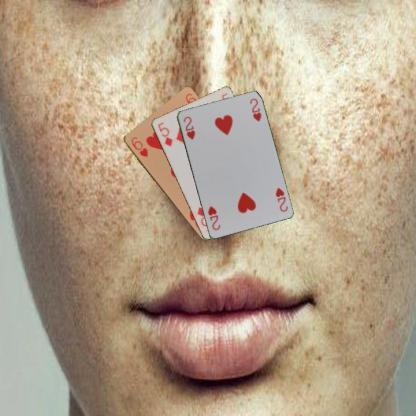2h: (273, 185, 289, 213), (181, 114, 196, 140)
5d: (154, 120, 173, 148)
6h: (128, 134, 149, 158)
